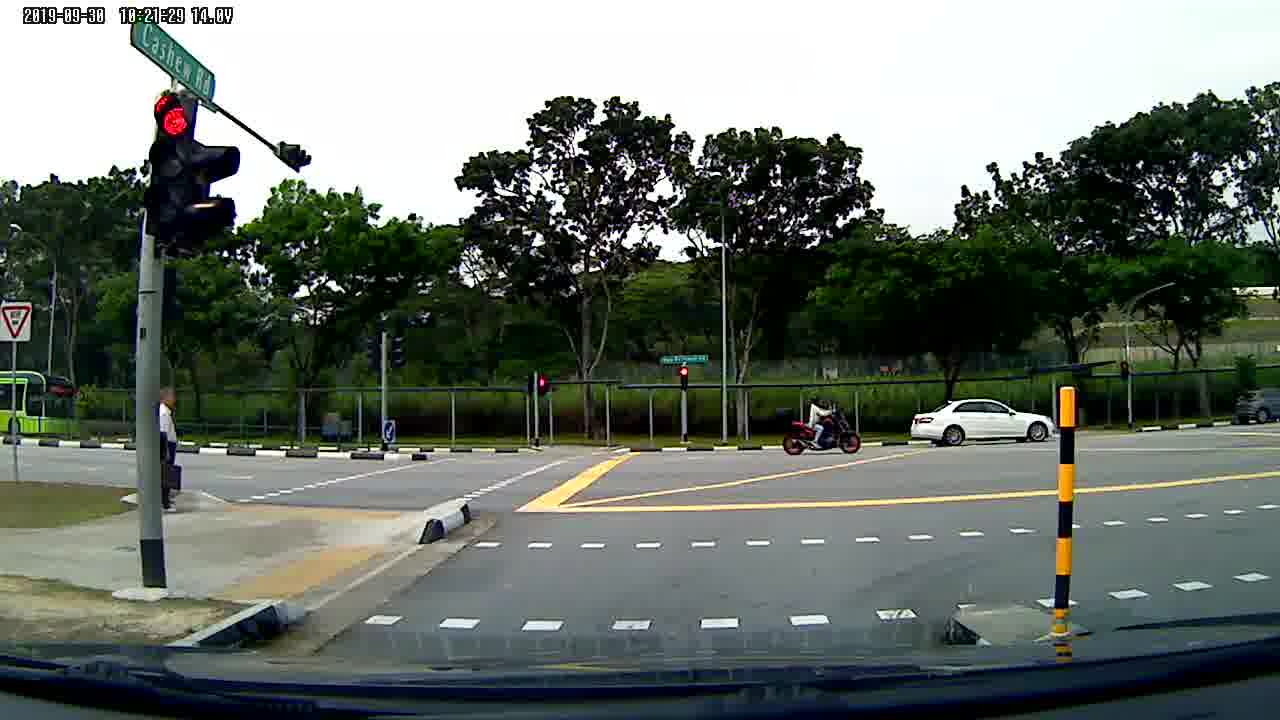bus: (1, 366, 78, 442)
car: (905, 395, 1059, 452), (1230, 386, 1280, 420)
